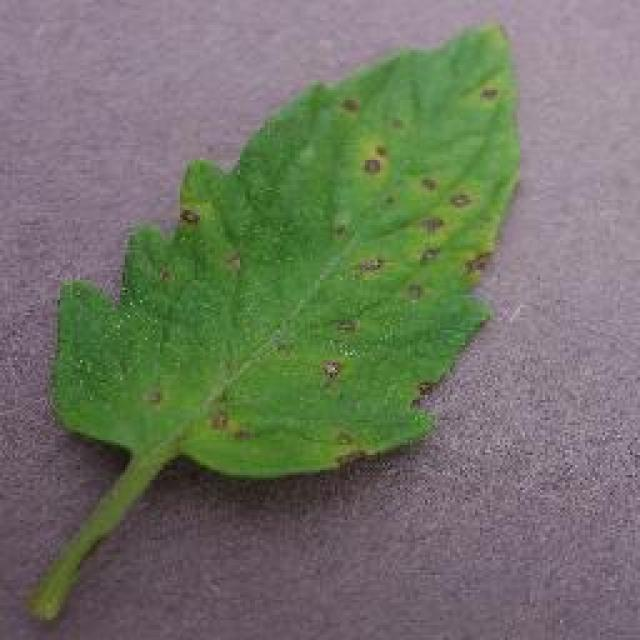Tomato___Septoria_leaf_spot: (32, 25, 515, 615)
